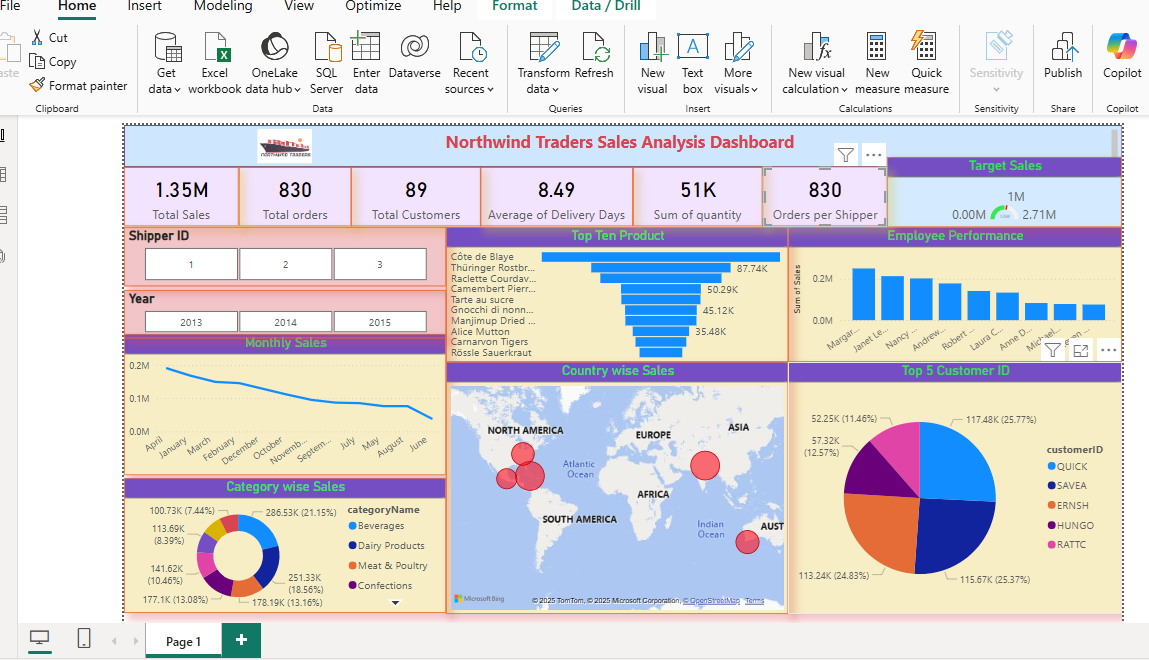

The dashboard page shown, as its layout file describes it:
{"tool":"powerbi","page":{"name":"Page 1","canvas":[1280,720],"ordinal":0},"visuals":[{"type":"card","fields":{"Values":["order_details.Total orders"]},"box":[146.8,54.4,144.3,75.9],"z":1000},{"type":"card","fields":{"Values":["order_details.Total Sales"]},"box":[0,54.4,146.8,75.9],"z":2000},{"type":"card","fields":{"Values":["order_details.Total Customers"]},"box":[291.1,54.4,167.1,75.9],"z":3000},{"type":"lineChart","title":"Monthly Sales","fields":{"Category":["orders.Month"],"Y":["order_details.Sales"]},"box":[0,268.4,412.7,181],"z":4000},{"type":"slicer","title":"Shipper ID","fields":{"Values":["shippers.shipperID"]},"box":[0,130.4,412.7,75.9],"z":5000},{"type":"funnel","title":"Top Ten Product","fields":{"Category":["products.productName"],"Y":["order_details.Sales"]},"box":[412.7,130.4,439.2,173.4],"z":6000},{"type":"card","fields":{"Values":["orders.Delivery Days"]},"box":[457,54.4,196.2,75.9],"z":7000},{"type":"donutChart","title":"Category wise Sales","fields":{"Category":["categories.categoryName"],"Y":["order_details.Sales"]},"box":[0,453.2,412.7,173.4],"z":8000},{"type":"card","fields":{"Values":["order_details.quantity"]},"box":[653.2,54.4,165.8,75.9],"z":9000},{"type":"slicer","title":"Year","fields":{"Values":["orders.Year"]},"box":[0,211.4,412.7,62],"z":10000},{"type":"textbox","box":[0,0,1279.7,54.4],"z":11000},{"type":"card","fields":{"Values":["order_details.Orders per Shipper"]},"box":[819,54.4,159.5,75.9],"z":12000},{"type":"map","title":"Country wise Sales","fields":{"Category":["customers.country"],"Size":["order_details.Sales"]},"box":[412.7,303.8,439.2,322.8],"z":13000},{"type":"columnChart","title":"Employee Performance","fields":{"Category":["employees.employeeName"],"Y":["order_details.Sales"]},"box":[851.9,130.4,427.8,173.4],"z":14000},{"type":"pieChart","title":"Top 5 Customer ID","fields":{"Category":["customers.customerID"],"Y":["order_details.Sales"]},"box":[851.9,303.8,427.8,322.8],"z":15000},{"type":"gauge","title":"Target Sales","fields":{"Y":["order_details.Sales"],"TargetValue":["order_details.Sales Target"]},"box":[978.5,40.5,301.3,89.9],"z":16000},{"type":"image","box":[0,0,412.7,54.4],"z":16001}]}

Visuals, with their boxes on the page's 1280x720 design canvas (x1, y1, x2, y2). These are canvas units, not pixel positions in the 1149x660 screenshot, which may show the page scaled, cropped or inside an application window:
card - order_details.Total orders: 147:54:291:130
card - order_details.Total Sales: 0:54:147:130
card - order_details.Total Customers: 291:54:458:130
"Monthly Sales" lineChart: 0:268:413:449
"Shipper ID" slicer: 0:130:413:206
"Top Ten Product" funnel: 413:130:852:304
card - orders.Delivery Days: 457:54:653:130
"Category wise Sales" donutChart: 0:453:413:627
card - order_details.quantity: 653:54:819:130
"Year" slicer: 0:211:413:273
textbox: 0:0:1280:54
card - order_details.Orders per Shipper: 819:54:978:130
"Country wise Sales" map: 413:304:852:627
"Employee Performance" columnChart: 852:130:1280:304
"Top 5 Customer ID" pieChart: 852:304:1280:627
"Target Sales" gauge: 978:40:1280:130
image: 0:0:413:54
